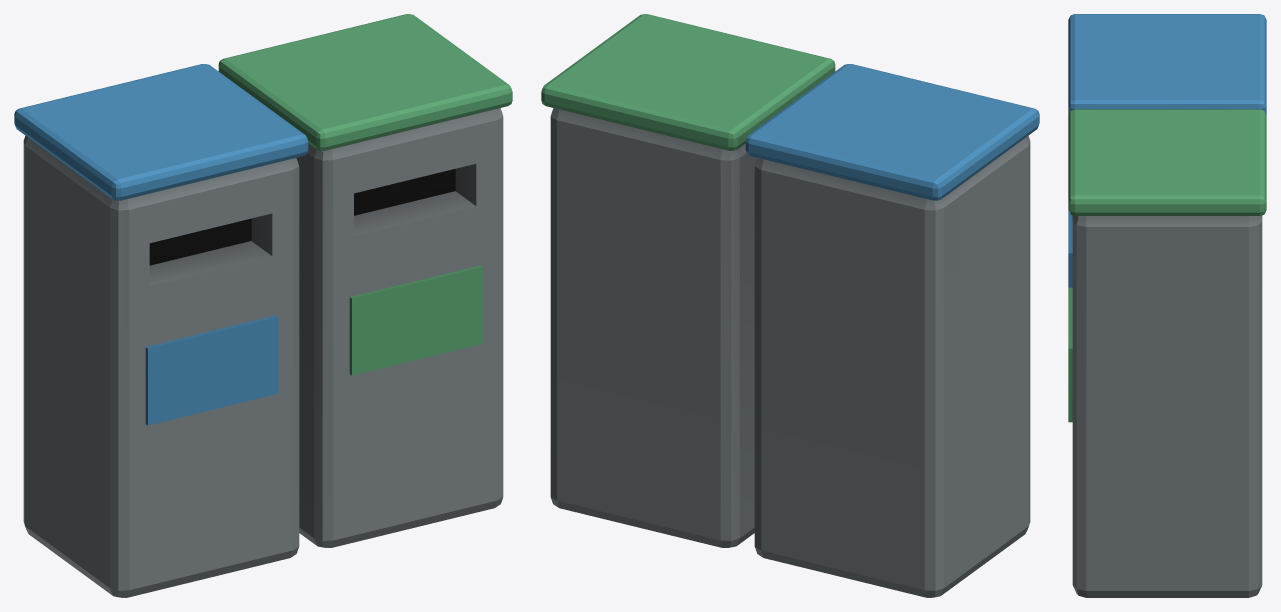
The model's file is st_bin.glb.
3 views of the same model, side by side, from view 1: azimuth 30°, elevation 25°; view 2: azimuth 150°, elevation 25°; view 3: azimuth 270°, elevation 25° (orthographic). The views are drawn at different scales.
Visible parts, largest first — view 1: body; view 2: body; view 3: body.
Boxes of the visible parts, <box> form: body: <box>14,14,512,597</box>; body: <box>541,14,1039,597</box>; body: <box>1068,14,1266,597</box>.
Bounding box in the file's own units: 0.98 × 0.995 × 0.44.
